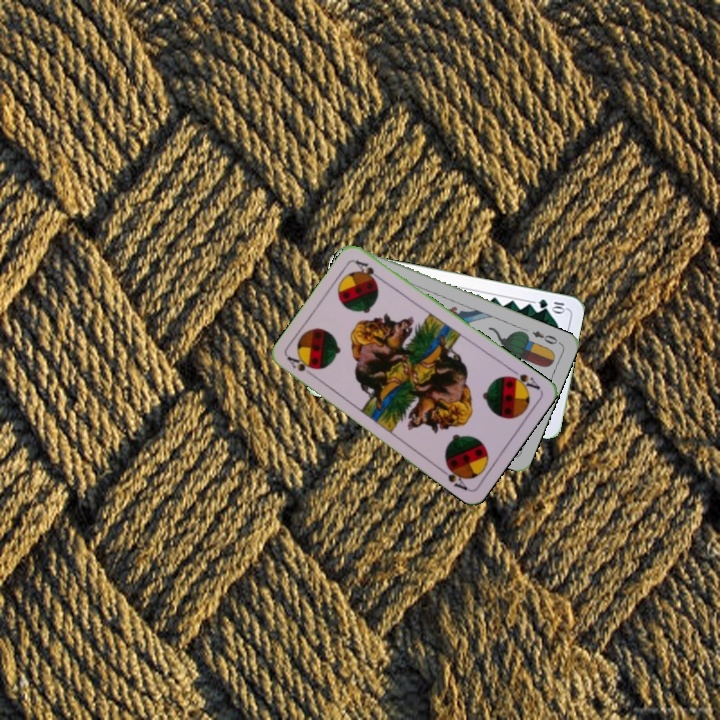EO: (528, 327, 563, 347)
G10: (534, 295, 568, 314)
SA: (503, 365, 543, 394), (283, 352, 319, 379)
